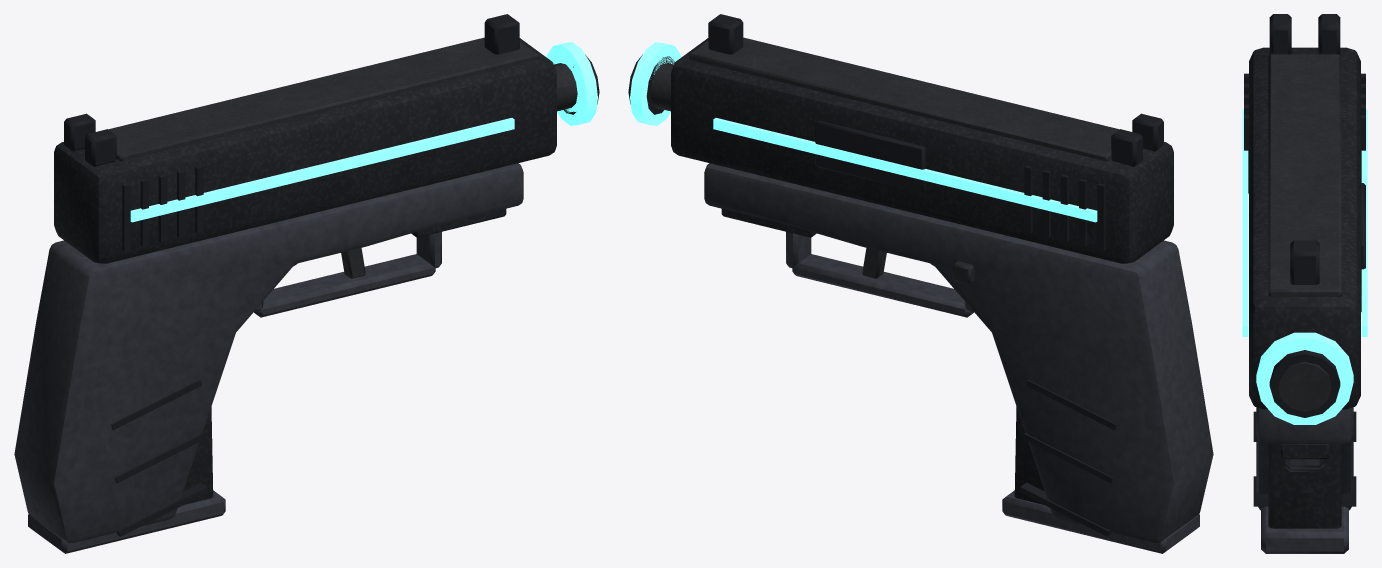
File: pistol_r2.fbx
3 views of the same model, side by side, from view 1: azimuth 30°, elevation 25°; view 2: azimuth 150°, elevation 25°; view 3: azimuth 270°, elevation 25° (orthographic). The views are drawn at different scales.
Visible parts, largest first — view 1: Body, Slide, Glow, Magazine; view 2: Body, Slide, Glow, Magazine; view 3: Slide, Body, Magazine, Glow.
Boxes of the visible parts, bbox=[...] form: Body: bbox=[14, 54, 599, 542]; Slide: bbox=[54, 14, 556, 263]; Glow: bbox=[130, 42, 597, 222]; Magazine: bbox=[28, 406, 225, 553]; Body: bbox=[628, 54, 1213, 542]; Slide: bbox=[671, 14, 1173, 263]; Glow: bbox=[630, 42, 1097, 222]; Magazine: bbox=[1002, 406, 1199, 553]; Slide: bbox=[1244, 14, 1365, 409]; Body: bbox=[1253, 296, 1361, 510]; Magazine: bbox=[1261, 444, 1348, 553]; Glow: bbox=[1242, 109, 1367, 424].
Size of the model in its own units: 3.04 by 2.16 by 0.515.
Materials: 2 (1 with a texture image).
